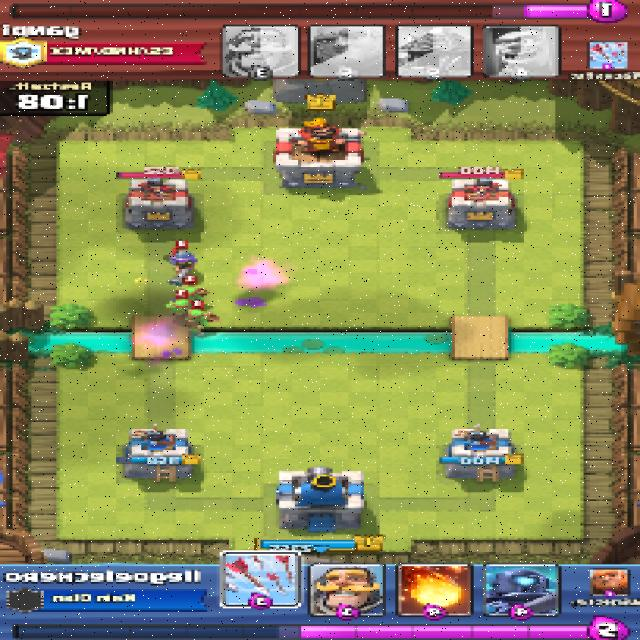Enemy-Musketeer: (170, 246, 196, 284)
Enemy-SpearGoblin: (178, 308, 212, 331), (168, 296, 197, 316), (179, 285, 203, 303)
